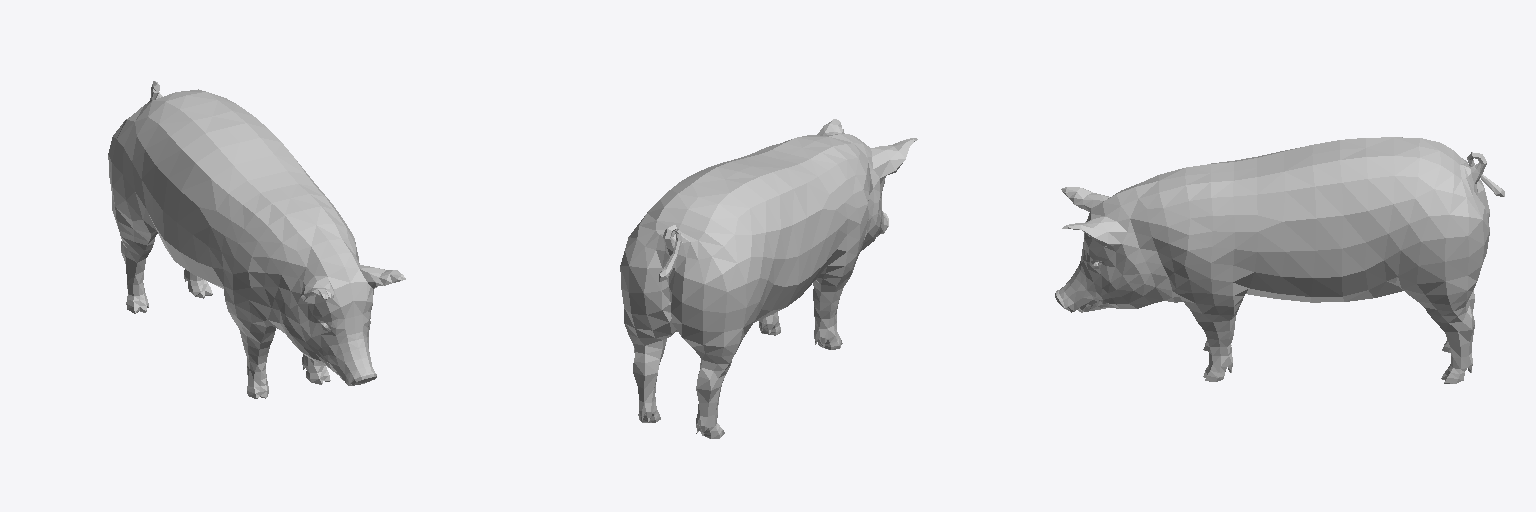
Rendered from pig.obj.
3 views of the same model, side by side, from view 1: azimuth 30°, elevation 25°; view 2: azimuth 150°, elevation 25°; view 3: azimuth 270°, elevation 25° (orthographic).
Parts seen in each view (by area): view 1: Mesh_1244_Untitled; view 2: Mesh_1244_Untitled; view 3: Mesh_1244_Untitled.
Part boxes in pixels (left/top/right/bottom): Mesh_1244_Untitled: left=108, top=81, right=405, bottom=398; Mesh_1244_Untitled: left=620, top=119, right=917, bottom=438; Mesh_1244_Untitled: left=1055, top=137, right=1504, bottom=383.
Bounding box in the file's own units: 1.1 × 1.85 × 3.44.